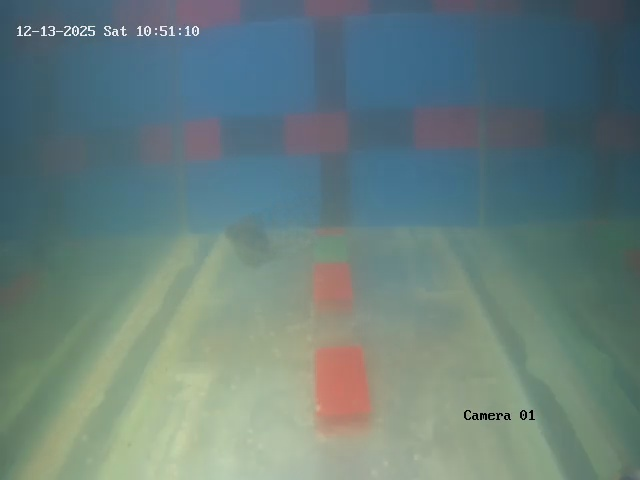fish: (232, 210, 276, 264)
